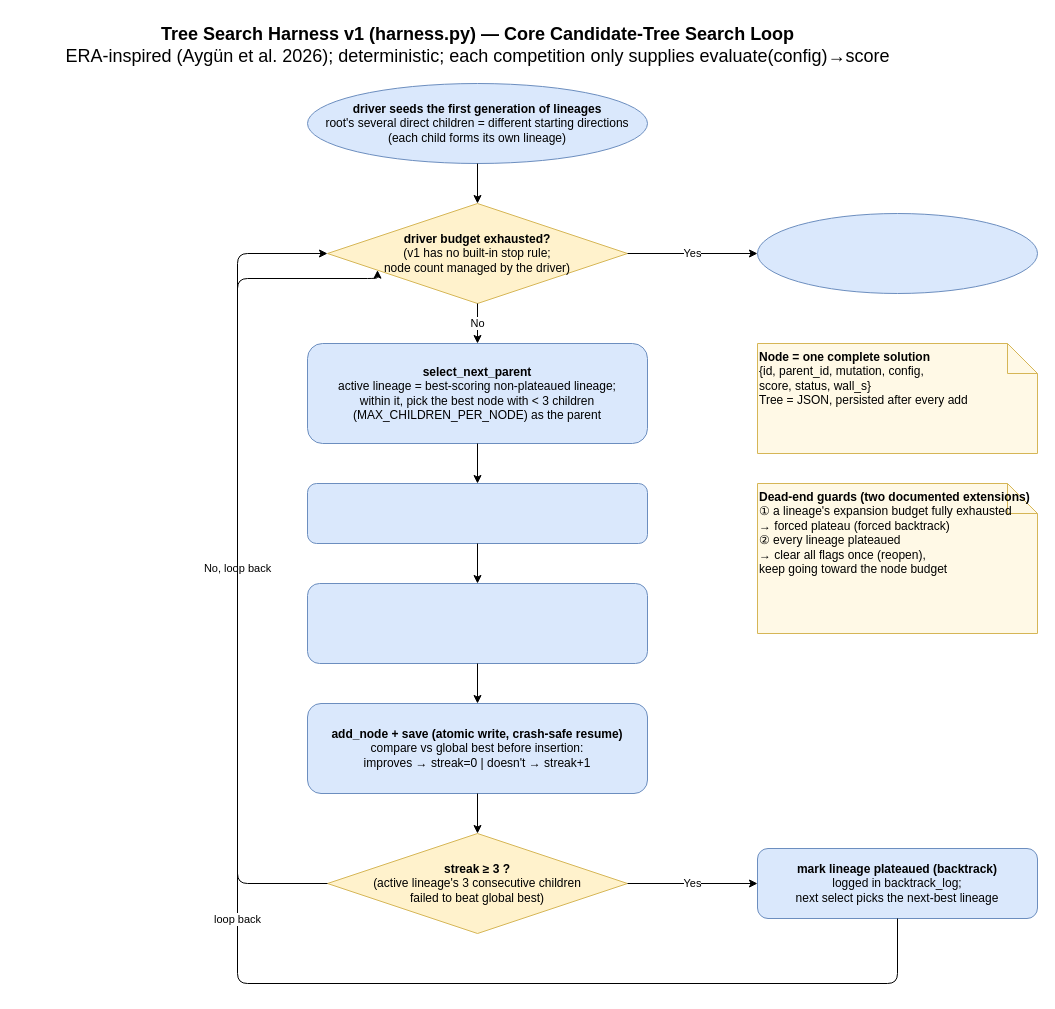
Some shapes in this 1055 by 1009 pixel diagram are drawn without their labels. Each missing label, with the centre of its shape:
driver / agent proposes a mutation (one-line human description + new config): (x=477, y=513)
evaluate(config) K-fold CV → score (lower-is-better convention) or status=failed: (x=477, y=623)
Output global_best (lowest-score evaluated node): (x=897, y=253)
